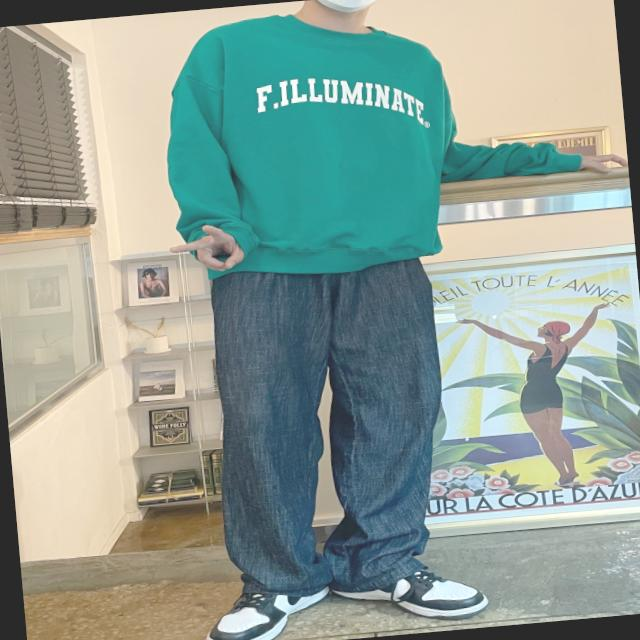denimpants: (200, 249, 458, 602)
mtm: (149, 0, 465, 281)
